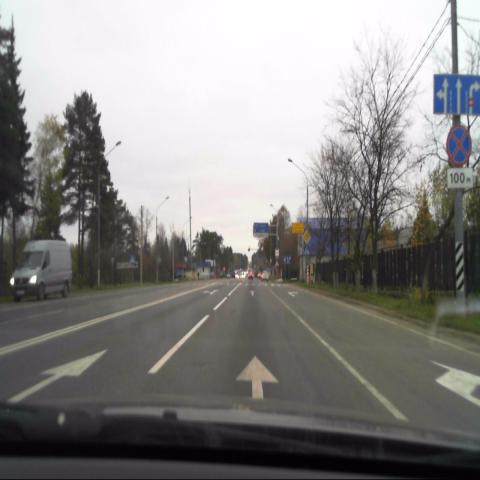2_1: (302, 229, 310, 243)
3_27: (446, 123, 471, 166)
5_15_1: (433, 73, 480, 115)
8_1_1: (448, 167, 474, 190)
